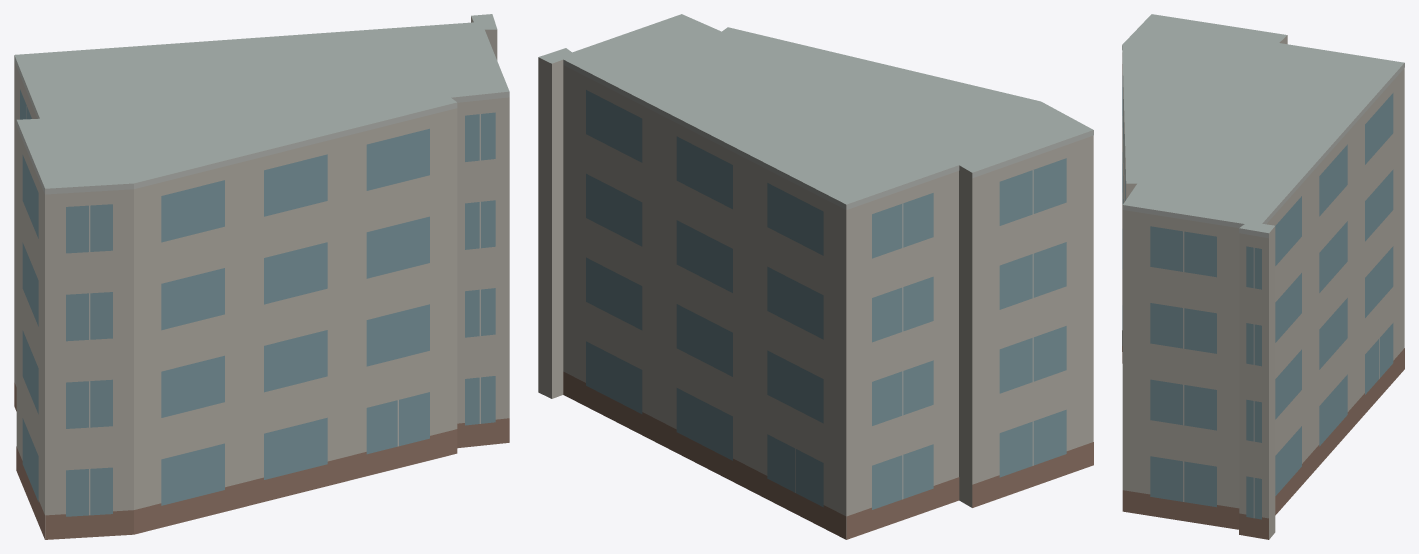
Rendered from survey-upis-33020719.glb.
3 views of the same model, side by side, from view 1: azimuth 30°, elevation 25°; view 2: azimuth 150°, elevation 25°; view 3: azimuth 270°, elevation 25° (orthographic). The views are drawn at different scales.
Parts seen in each view (by area): view 1: survey-upis-33020719.tmp; view 2: survey-upis-33020719.tmp; view 3: survey-upis-33020719.tmp.
Part boxes in pixels (left/top/right/bottom): survey-upis-33020719.tmp: left=14, top=14, right=509, bottom=539; survey-upis-33020719.tmp: left=538, top=14, right=1093, bottom=539; survey-upis-33020719.tmp: left=1122, top=14, right=1404, bottom=539.
Size of the model in its own units: 22.86 by 14.9 by 12.45.
